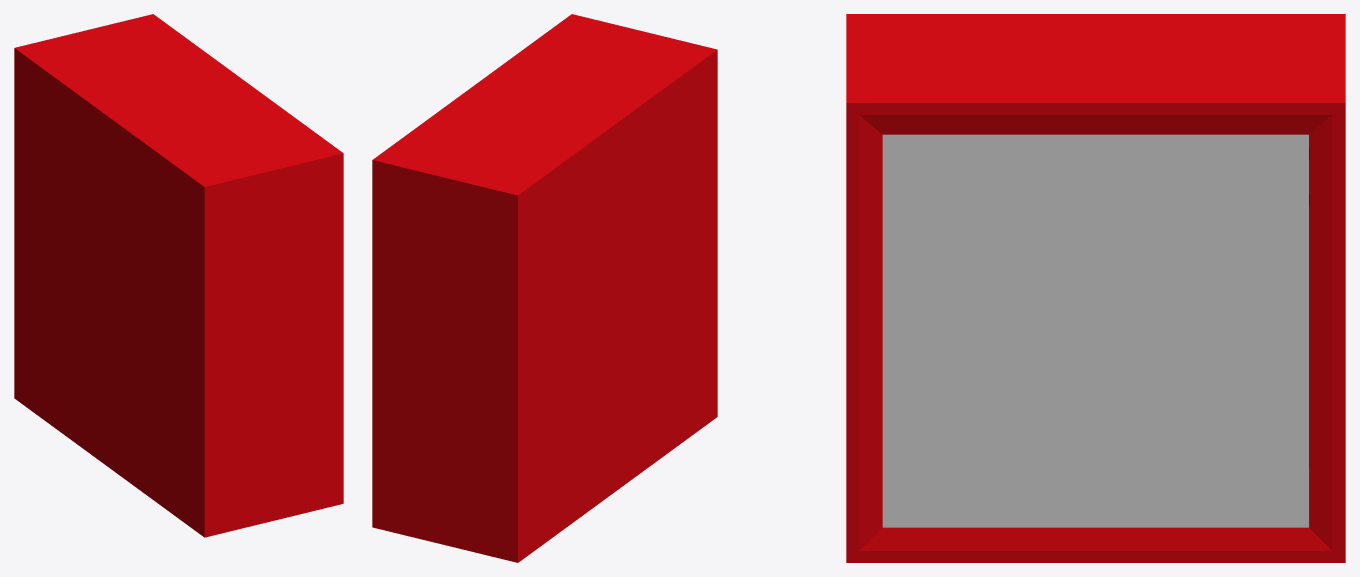
Rendered from CUADRO DE BOMBEROS.fbx.
3 views of the same model, side by side, from view 1: azimuth 30°, elevation 25°; view 2: azimuth 150°, elevation 25°; view 3: azimuth 270°, elevation 25° (orthographic). The views are drawn at different scales.
Parts seen in each view (by area): view 1: CUADRO DE PELIGRO; view 2: CUADRO DE PELIGRO; view 3: CUADRO DE PELIGRO.
Part boxes in pixels (x1,y1,x2,y2): CUADRO DE PELIGRO: [14, 14, 343, 537]; CUADRO DE PELIGRO: [372, 14, 717, 562]; CUADRO DE PELIGRO: [846, 14, 1345, 562].
Bounding box in the file's own units: 492 × 1222 × 1399.
